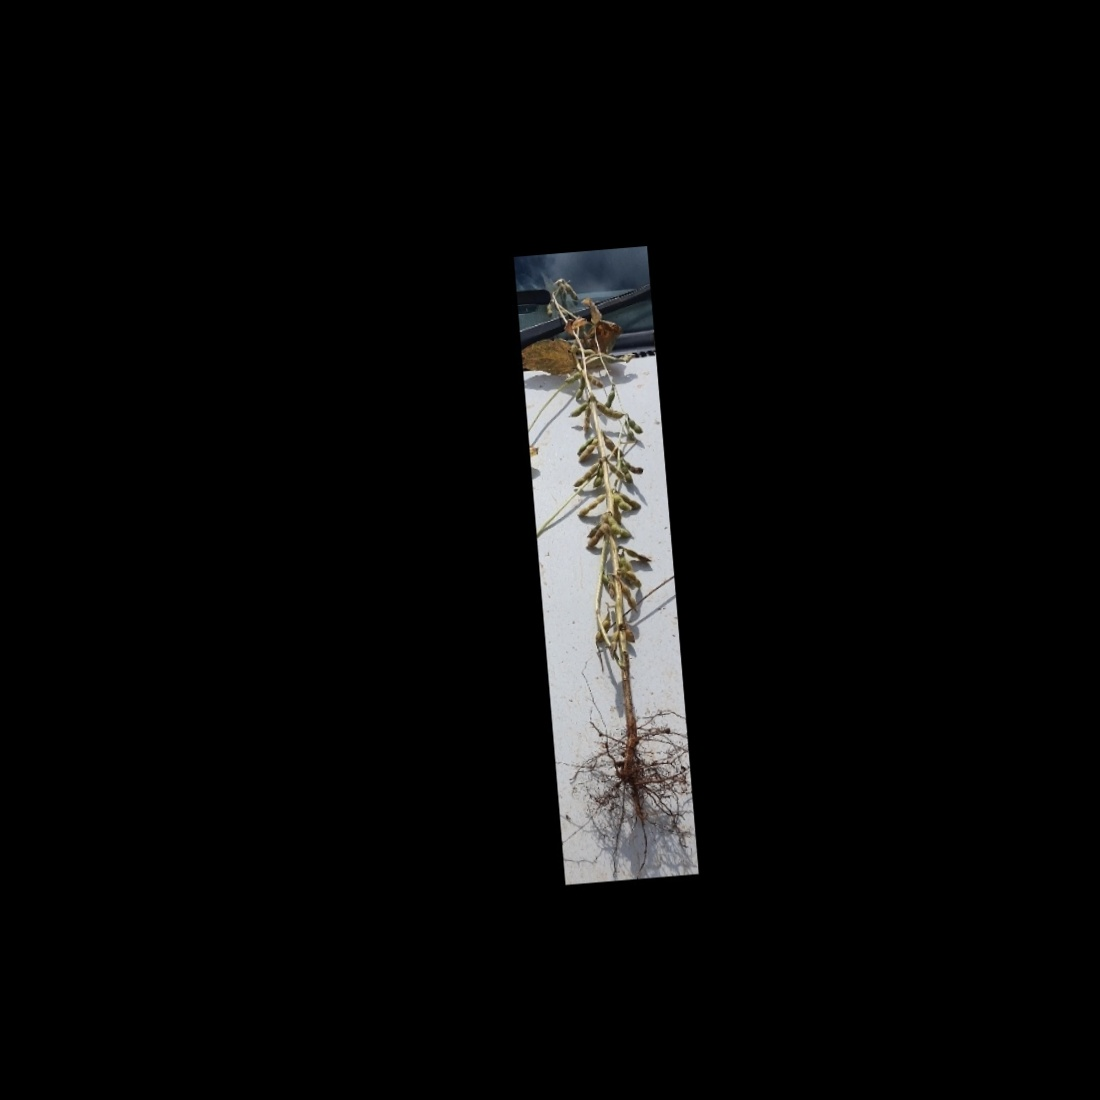pod: (589, 610, 614, 645), (575, 492, 606, 516), (571, 462, 598, 488), (620, 583, 639, 617), (626, 544, 654, 565), (610, 491, 632, 515), (607, 523, 633, 539), (606, 460, 623, 482), (590, 466, 605, 489), (618, 463, 634, 485), (627, 417, 644, 435)
soy: (523, 268, 676, 802)
